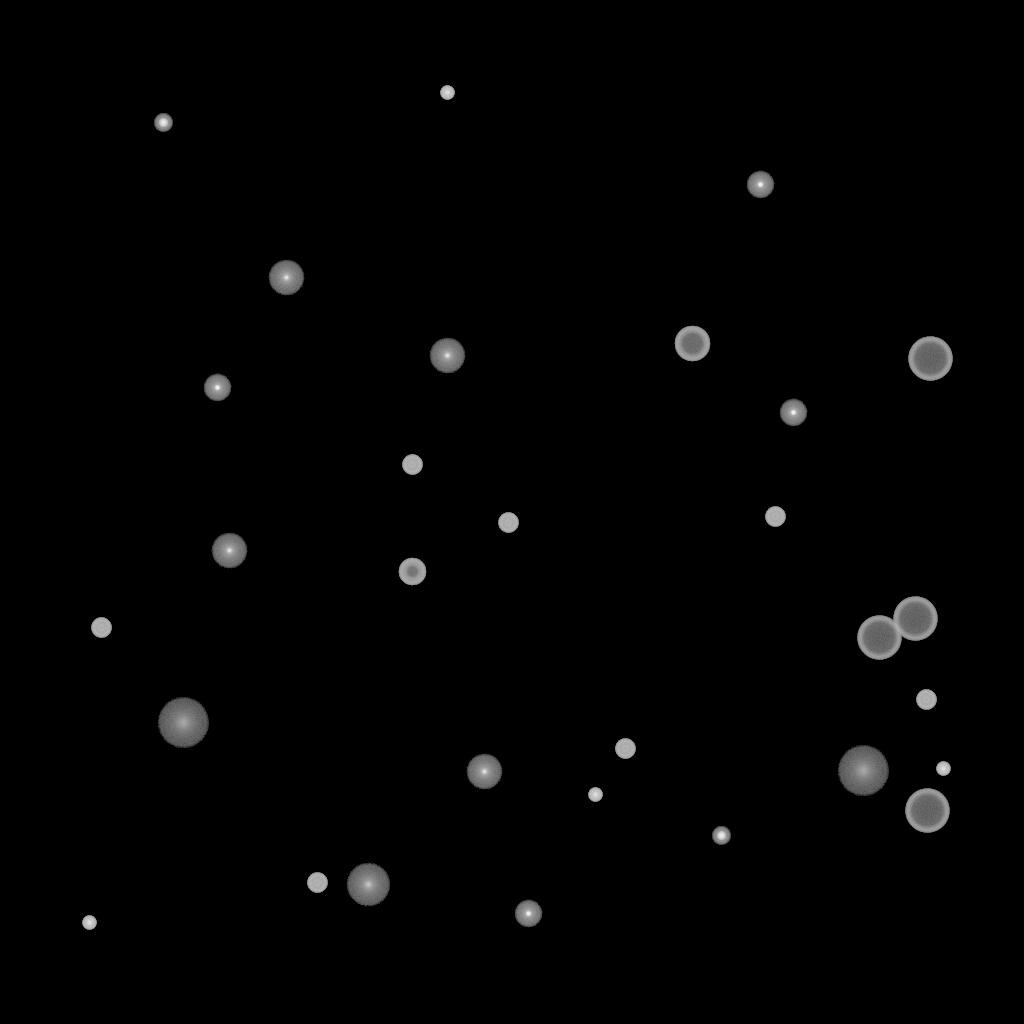depth:-10: (779, 399, 807, 427), (203, 374, 231, 402), (514, 900, 542, 928), (746, 171, 774, 199)
depth:-20: (154, 114, 172, 132), (712, 827, 730, 845)
depth:-30: (440, 86, 454, 100), (82, 916, 96, 930), (936, 762, 950, 776), (588, 788, 602, 802)
depth:-40: (765, 507, 785, 527), (307, 873, 327, 893), (402, 455, 422, 475), (91, 618, 111, 638), (916, 690, 936, 710), (615, 739, 635, 759), (498, 513, 518, 533)
depth:-50: (398, 558, 426, 586)
depth:-60: (674, 326, 710, 362)
depth:-70: (893, 597, 937, 641), (857, 616, 901, 660), (905, 789, 949, 833), (908, 337, 952, 381)
depth:0: (211, 533, 247, 569), (429, 338, 465, 374), (268, 260, 304, 296), (466, 754, 502, 790)
depth:10: (346, 863, 390, 907)
depth:20: (837, 746, 889, 796), (157, 698, 209, 748)
